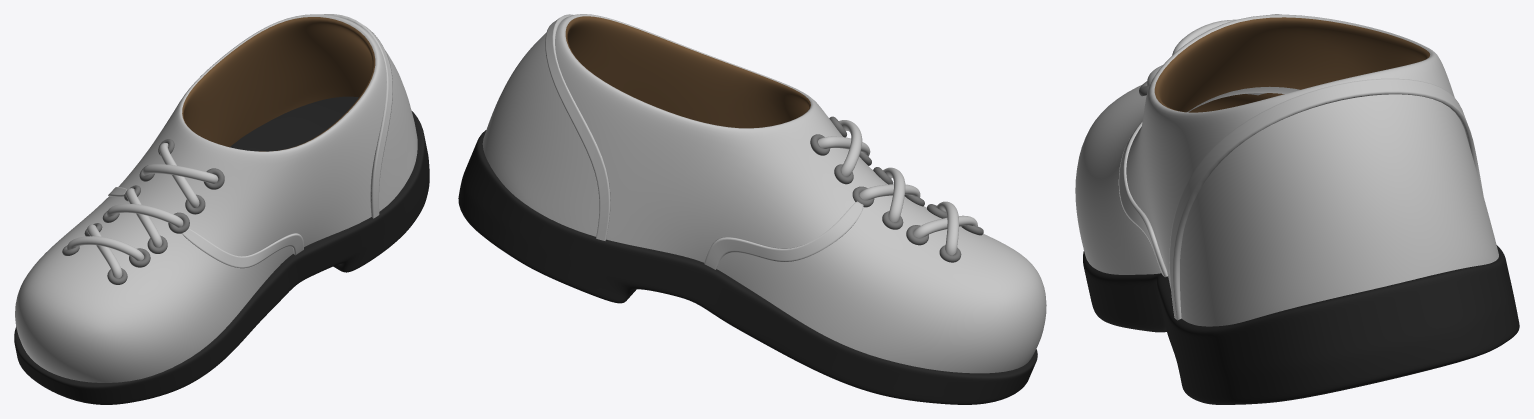
Rendered from Shoes.fbx.
3 renders of one model, left to right at view 1: azimuth 30°, elevation 25°; view 2: azimuth 150°, elevation 25°; view 3: azimuth 270°, elevation 25°, orthographic. The views are drawn at different scales.
Parts seen in each view (by area): view 1: Cylinder.026, Cube.011, Cylinder.027, Cylinder.028, Vert.003, Vert.004, Vert.006, Circle.004, Circle.005, Circle.006, Vert.002, Vert.001 (+1 smaller); view 2: Cylinder.026, Cube.011, Cylinder.028, Cylinder.027, Circle.006, Circle.005, Circle.004, Vert.003, Vert.004, Vert.006, Vert.005, Vert.001; view 3: Cylinder.026, Cube.011, Cylinder.028, Cylinder.027, Vert.003.
Part boxes in pixels (x1,y1,x2,y2): Cylinder.026: (15, 14, 417, 382); Cube.011: (14, 96, 429, 404); Cylinder.027: (108, 187, 303, 268); Cylinder.028: (323, 14, 392, 218); Vert.003: (143, 164, 218, 183); Vert.004: (107, 203, 183, 227); Vert.006: (67, 236, 144, 260); Circle.004: (139, 139, 224, 214); Circle.005: (102, 185, 189, 253); Circle.006: (62, 223, 150, 284); Vert.002: (159, 143, 199, 207); Vert.001: (125, 188, 162, 247); Cylinder.026: (482, 14, 1046, 373); Cube.011: (458, 130, 1037, 404); Cylinder.028: (545, 14, 610, 240); Cylinder.027: (704, 201, 863, 269); Circle.006: (906, 204, 983, 262); Circle.005: (852, 167, 924, 229); Circle.004: (810, 116, 871, 184); Vert.003: (839, 120, 862, 176); Vert.004: (883, 167, 905, 222); Vert.006: (936, 201, 958, 255); Vert.005: (913, 215, 977, 237); Vert.001: (859, 184, 920, 200); Cylinder.026: (1075, 14, 1498, 326); Cube.011: (1083, 245, 1519, 404); Cylinder.028: (1169, 78, 1483, 320); Cylinder.027: (1118, 121, 1167, 277); Vert.003: (1172, 19, 1236, 55).
Bounding box in the file's own units: 657 × 380 × 352.
